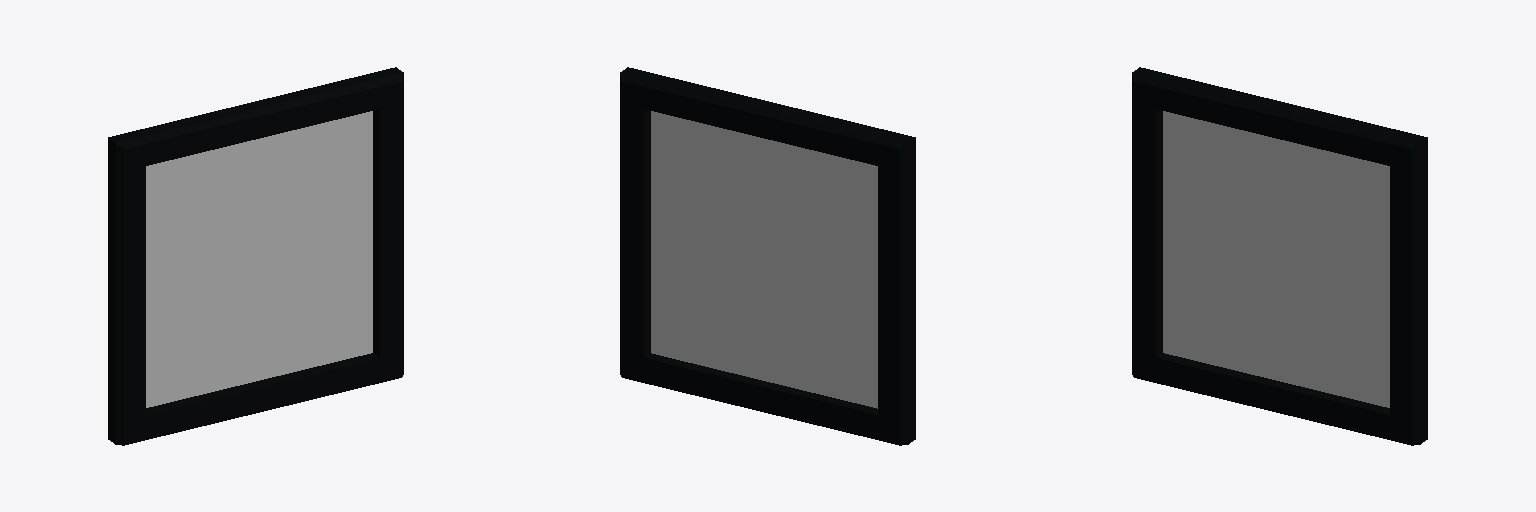
The model's file is Wall_Glass_Orange.obj.
The picture shows the model from 3 angles: view 1: azimuth 30°, elevation 25°; view 2: azimuth 150°, elevation 25°; view 3: azimuth 330°, elevation 25°; orthographic projection.
Visible parts, largest first — view 1: Wall_Glass_Orange; view 2: Wall_Glass_Orange; view 3: Wall_Glass_Orange.
Boxes of the visible parts, <box> form: Wall_Glass_Orange: <box>108,67,403,445</box>; Wall_Glass_Orange: <box>620,67,915,445</box>; Wall_Glass_Orange: <box>1132,67,1427,445</box>.
Size of the model in its own units: 4 by 4 by 0.3241.